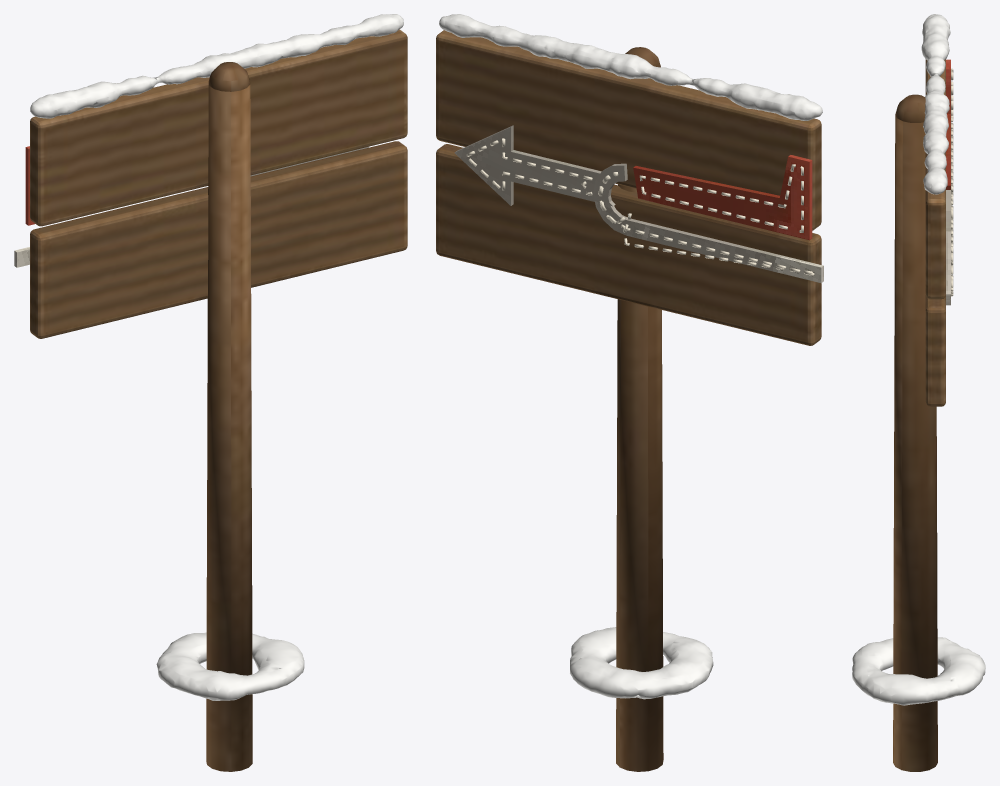
Rendered from sign_slope.glb.
3 views of the same model, side by side, from view 1: azimuth 30°, elevation 25°; view 2: azimuth 150°, elevation 25°; view 3: azimuth 270°, elevation 25° (orthographic). The views are drawn at different scales.
Parts seen in each view (by area): view 1: sign_slope_board, sign_slope_wood, sign_slope_snow, sign_slope_base; view 2: sign_slope_board, sign_slope_wood, sign_slope_felt_cream, sign_slope_snow, sign_slope_felt_red, sign_slope_base, sign_slope_stitch; view 3: sign_slope_wood, sign_slope_base, sign_slope_board, sign_slope_snow, sign_slope_stitch, sign_slope_felt_cream, sign_slope_felt_red.
Boxes of the visible parts, box(x1,y1,x2,y2) form: sign_slope_board: box(30, 29, 407, 338); sign_slope_wood: box(206, 62, 252, 771); sign_slope_snow: box(30, 14, 403, 118); sign_slope_base: box(156, 632, 304, 700); sign_slope_board: box(436, 30, 821, 345); sign_slope_wood: box(616, 47, 663, 771); sign_slope_felt_cream: box(454, 125, 823, 283); sign_slope_snow: box(439, 14, 822, 120); sign_slope_felt_red: box(633, 155, 812, 240); sign_slope_base: box(570, 627, 713, 699); sign_slope_stitch: box(466, 138, 814, 276); sign_slope_wood: box(893, 94, 937, 771); sign_slope_base: box(852, 637, 985, 705); sign_slope_board: box(925, 59, 945, 406); sign_slope_snow: box(921, 14, 950, 194); sign_slope_stitch: box(951, 68, 953, 296); sign_slope_felt_cream: box(946, 190, 950, 305); sign_slope_felt_red: box(946, 59, 950, 189).
Size of the model in its own units: 1.03 by 1.8 by 0.3269.
7 materials, 4 textured.
